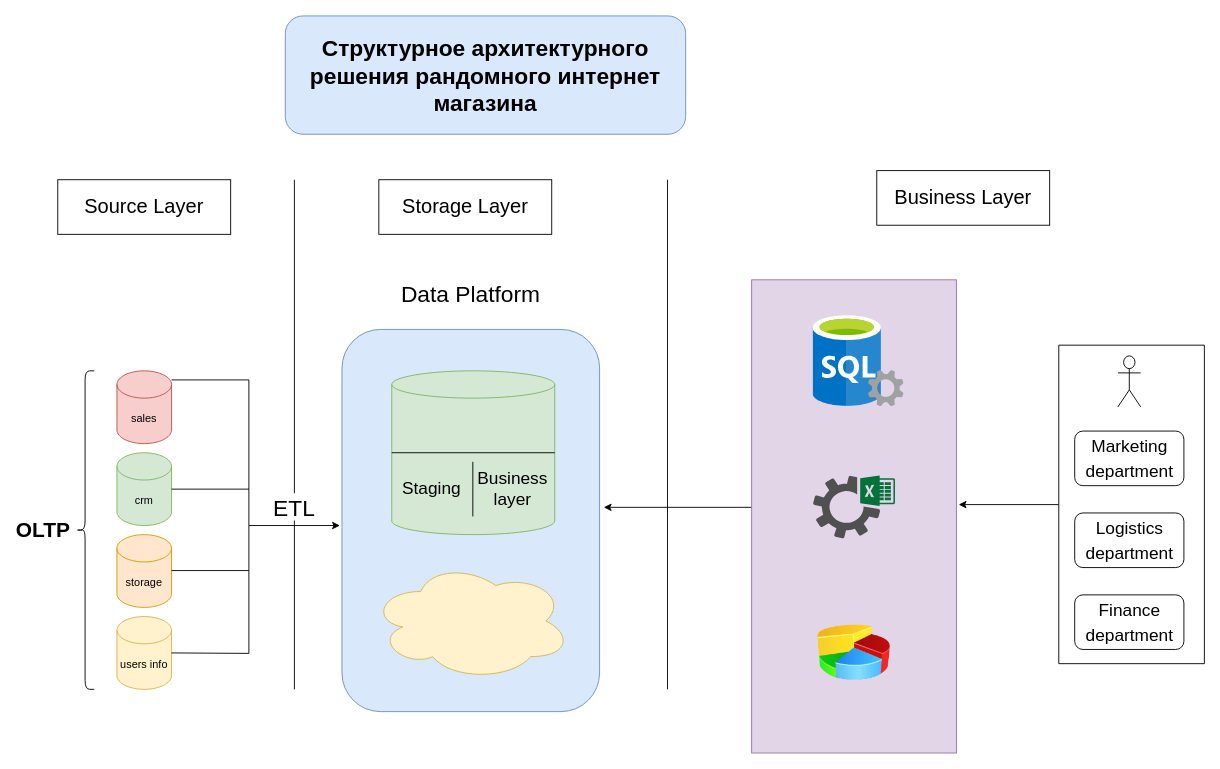
This 1220x769 diagram has some shape labels left out. Each missing label, with the box of its shape:
Business Intelligance: (817, 616, 890, 688)
Data lake: (370, 561, 571, 680)
Excel: (813, 475, 895, 538)
SQL: (813, 315, 904, 406)
warehouse: (391, 370, 555, 535)
